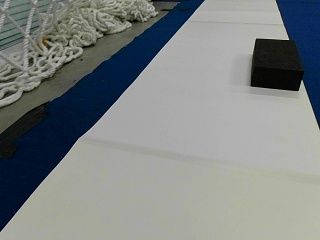block: (250, 37, 303, 90)
